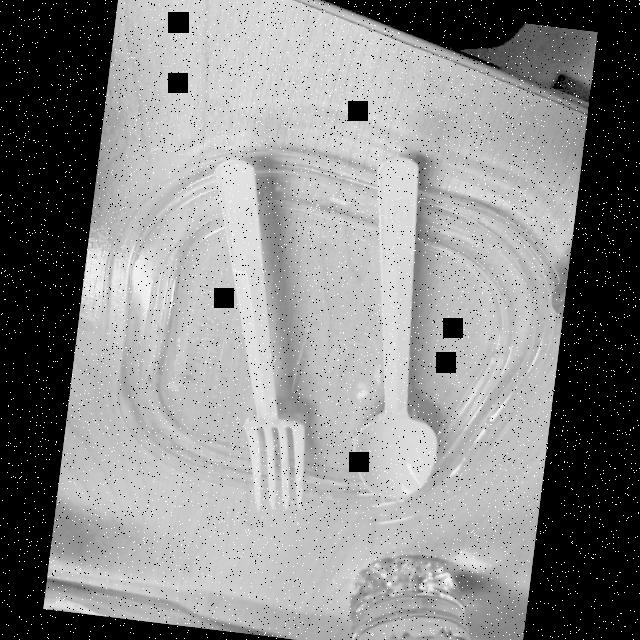plastic_spoon: (152, 143, 372, 527), (314, 132, 480, 509)
